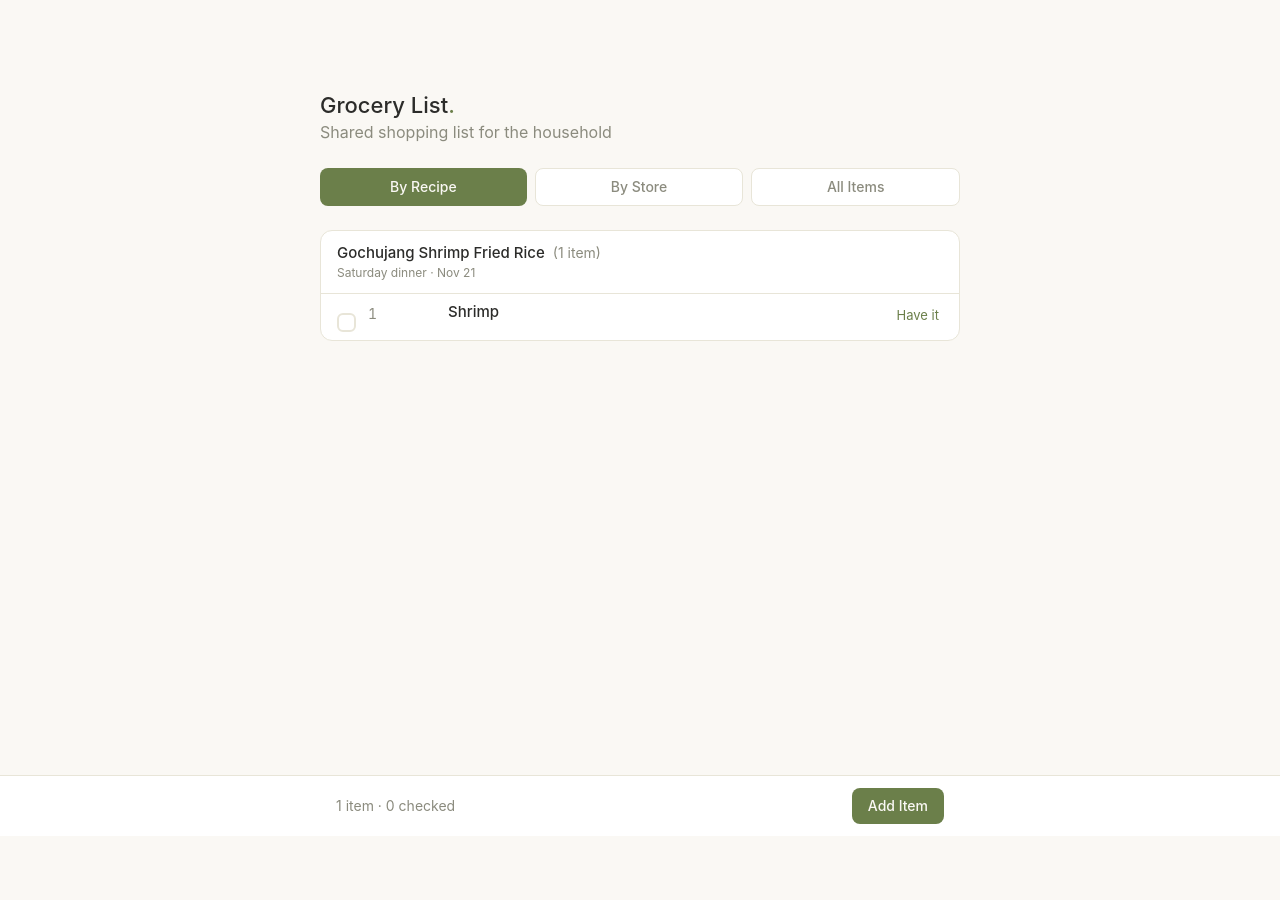
Test: Grocery page views › names the recipe on each item in the plain list
This screenshot has width=1280, height=900.
Click the button "All Items": (856, 186) [751,168,960,206]
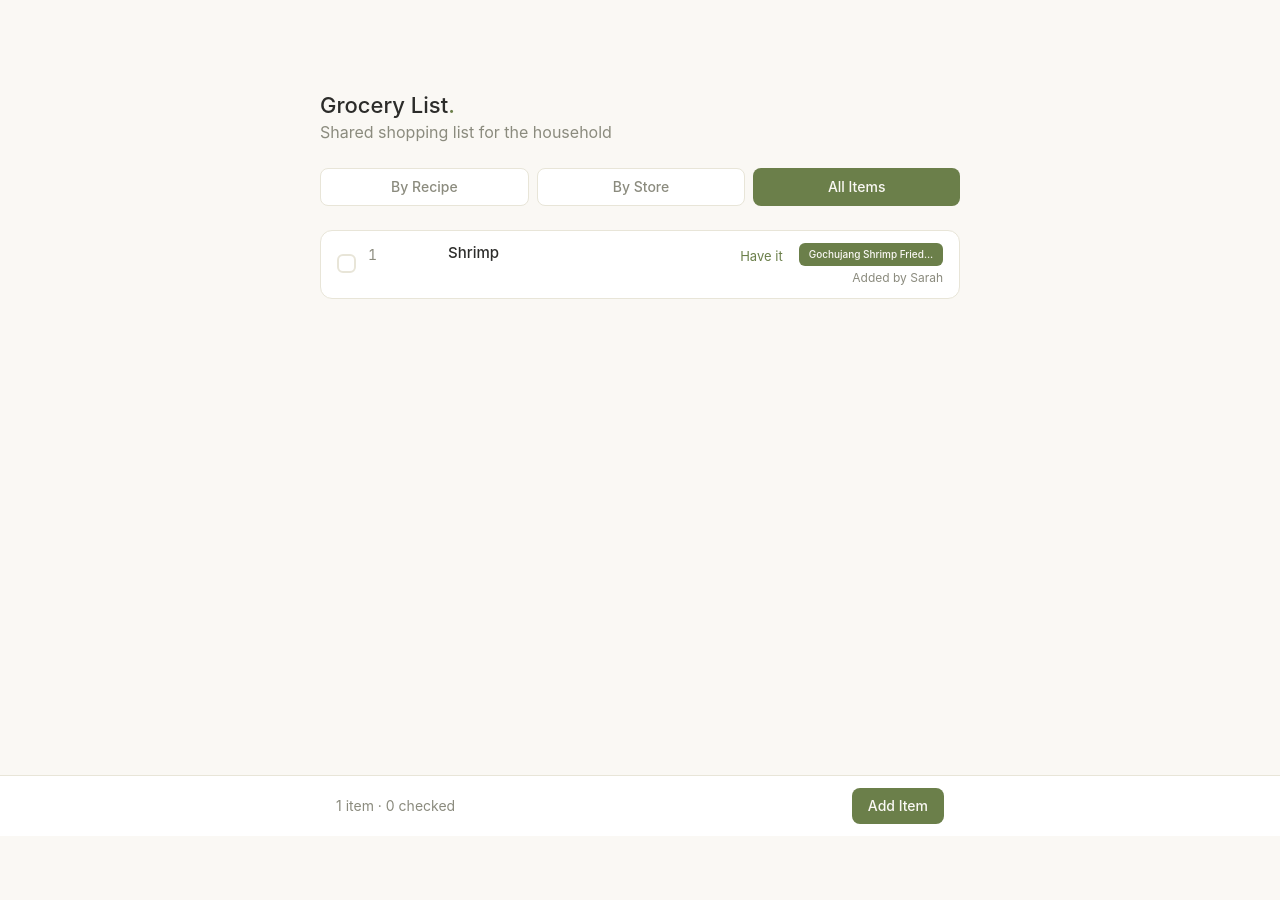
Now the text "Added by Sarah" is shown, box [852,270,943,286]
